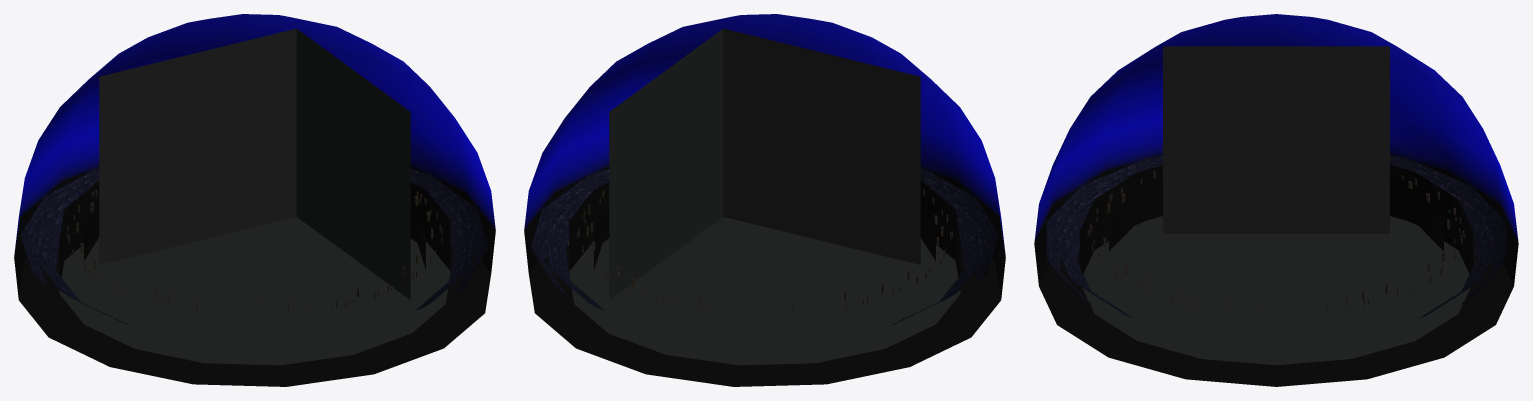
Rendered from D3_SKYDOOM.glb.
The picture shows the model from 3 angles, left to right: view 1: azimuth 30°, elevation 25°; view 2: azimuth 150°, elevation 25°; view 3: azimuth 270°, elevation 25°; orthographic projection.
Visible parts, largest first — view 1: IN_RECT, BILL_IN, Doom, YAKEI2, YAKEI1, BILL_IN2, bill, obj55; view 2: IN_RECT, BILL_IN, Doom, YAKEI2, YAKEI1, BILL_IN2, bill; view 3: BILL_IN, IN_RECT, Doom, YAKEI1, YAKEI2, BILL_IN2, bill, obj55.
Part boxes in pixels (left/top/right/bottom): IN_RECT: left=99, top=28, right=410, bottom=299; BILL_IN: left=59, top=180, right=450, bottom=365; Doom: left=14, top=14, right=495, bottom=386; YAKEI2: left=34, top=180, right=476, bottom=325; YAKEI1: left=20, top=167, right=489, bottom=295; BILL_IN2: left=84, top=204, right=425, bottom=269; bill: left=67, top=189, right=442, bottom=313; obj55: left=76, top=195, right=433, bottom=310; IN_RECT: left=609, top=28, right=920, bottom=299; BILL_IN: left=569, top=180, right=960, bottom=365; Doom: left=524, top=14, right=1005, bottom=386; YAKEI2: left=543, top=180, right=985, bottom=325; YAKEI1: left=530, top=167, right=999, bottom=295; BILL_IN2: left=594, top=204, right=935, bottom=269; bill: left=577, top=189, right=952, bottom=314; BILL_IN: left=1079, top=165, right=1473, bottom=365; IN_RECT: left=1163, top=46, right=1389, bottom=233; Doom: left=1034, top=14, right=1518, bottom=386; YAKEI1: left=1046, top=155, right=1506, bottom=305; YAKEI2: left=1054, top=173, right=1498, bottom=318; BILL_IN2: left=1109, top=180, right=1443, bottom=251; bill: left=1087, top=171, right=1465, bottom=312; obj55: left=1103, top=173, right=1449, bottom=310.
Bounding box in the file's own units: 3199 × 1915 × 3199.
17 materials, 17 textured.
